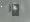person: (13, 5, 20, 17), (6, 6, 10, 17)
